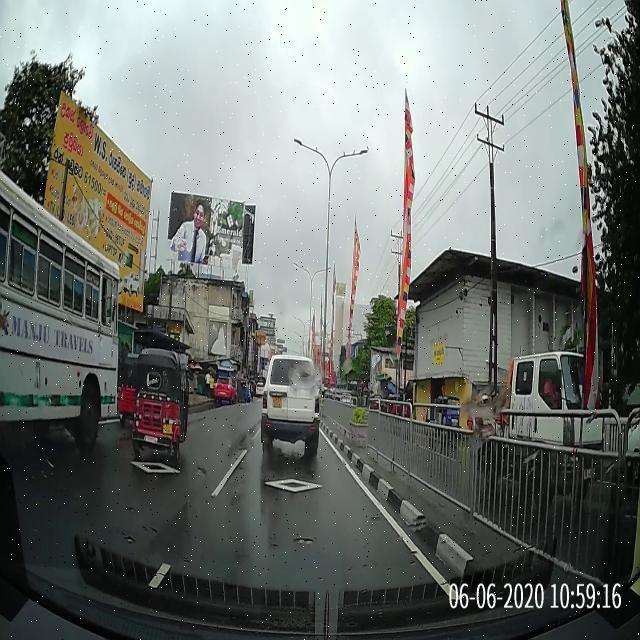diamond: (186, 460, 403, 525)
